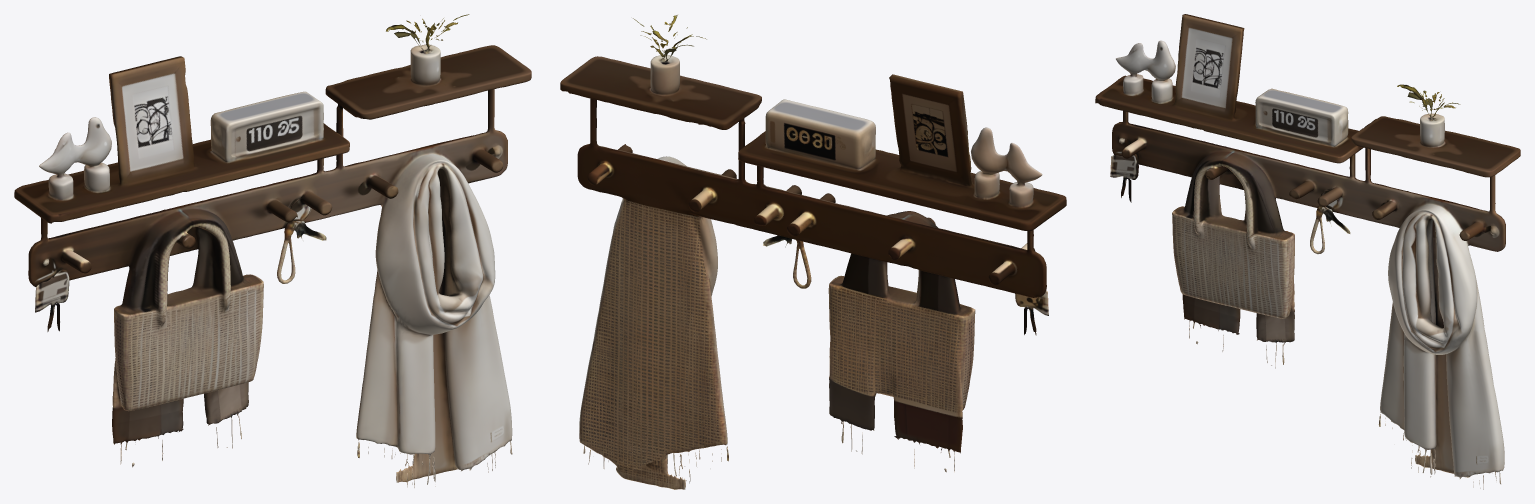
3 renders of one model, left to right at view 1: azimuth 30°, elevation 25°; view 2: azimuth 150°, elevation 25°; view 3: azimuth 330°, elevation 25°, orthographic. The views are drawn at different scales.
Parts seen in each view (by area): view 1: model; view 2: model; view 3: model.
Boxes of the visible parts, x1,y1,x2,y2 form: model: (14,14,531,487); model: (560,15,1066,489); model: (1095,14,1520,489).
Size of the model in its own units: 175 by 167 by 24.89.
Materials: 1 (1 with a texture image).
